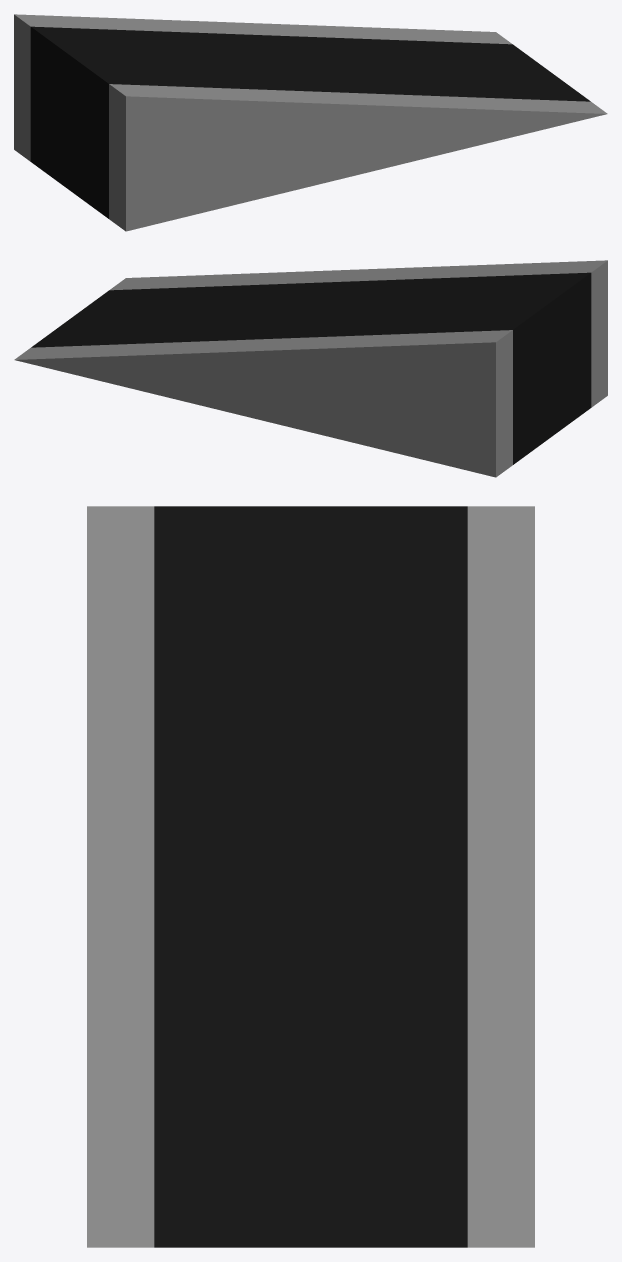
Rendered from cpsMap_Ramp2.obj.
3 renders of one model, top to bottom at view 1: azimuth 30°, elevation 25°; view 2: azimuth 150°, elevation 25°; view 3: azimuth 270°, elevation 25°, orthographic. The views are drawn at different scales.
Parts seen in each view (by area): view 1: Ramp.002_Cube.016; view 2: Ramp.002_Cube.016; view 3: Ramp.002_Cube.016.
Boxes of the visible parts, box(x1,y1,x2,y2) form: Ramp.002_Cube.016: box(14, 14, 607, 231); Ramp.002_Cube.016: box(14, 260, 607, 477); Ramp.002_Cube.016: box(87, 506, 534, 1247).
Size of the model in its own units: 10.86 by 2.91 by 4.37.
